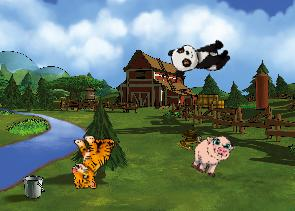panda: (167, 35, 232, 79)
pig: (186, 128, 236, 181)
tiger: (69, 133, 116, 189)
